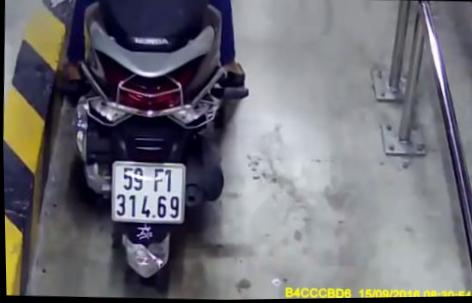LP: (109, 158, 188, 225)
